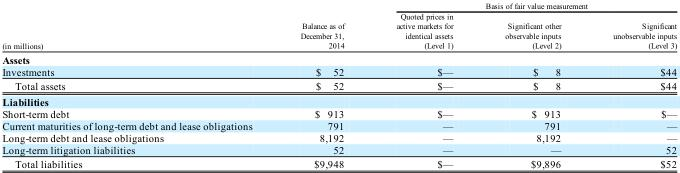table: (1, 1, 676, 169)
table column: (1, 1, 275, 169), (369, 1, 478, 169), (478, 1, 586, 169), (275, 1, 369, 169), (586, 1, 676, 169)
table column header: (1, 1, 676, 51)
table projected row header: (1, 51, 676, 65), (1, 93, 676, 107)
table row: (1, 10, 676, 51), (1, 78, 676, 93), (1, 51, 676, 65), (1, 93, 676, 107), (1, 65, 676, 78), (1, 143, 676, 156), (1, 156, 676, 169), (1, 107, 676, 119), (1, 119, 676, 131), (1, 131, 676, 143), (1, 1, 676, 10)
table spanning cell: (1, 1, 275, 51), (275, 1, 369, 51), (369, 1, 676, 10)
